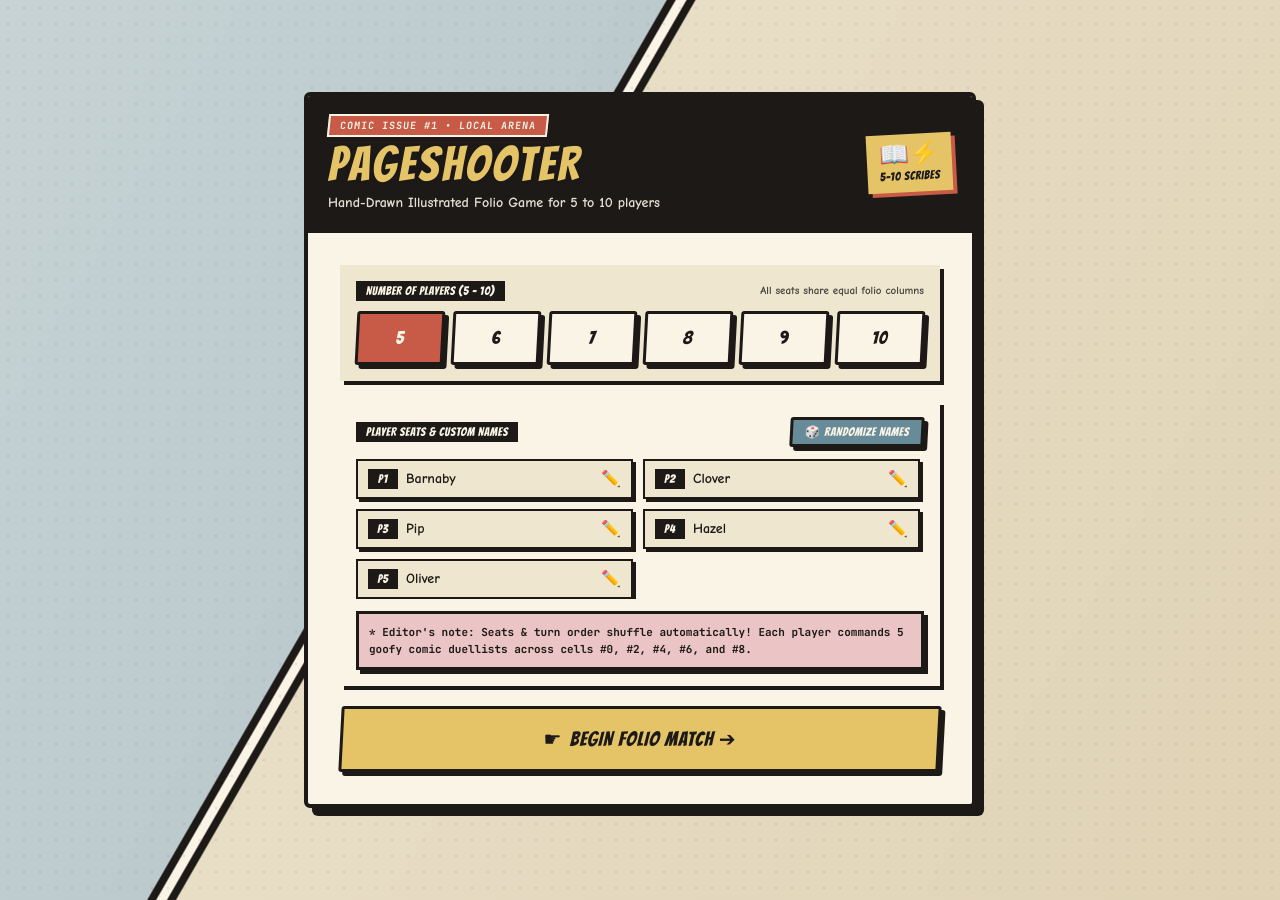
Scenario: React Components QA & Regression Tests › SetupScreen › renders default 5 players and allows switching to 10 players
Later steps or results of the test are not shown.
Expected: the 1st field with placeholder "Player 1" is shown, [406,469,593,489]
Expected: the 5th field with placeholder "Player 5" is shown, [406,569,593,589]
Note: Switch to 10 players
Click the button "10" at (880,338), box [835,311,925,365]
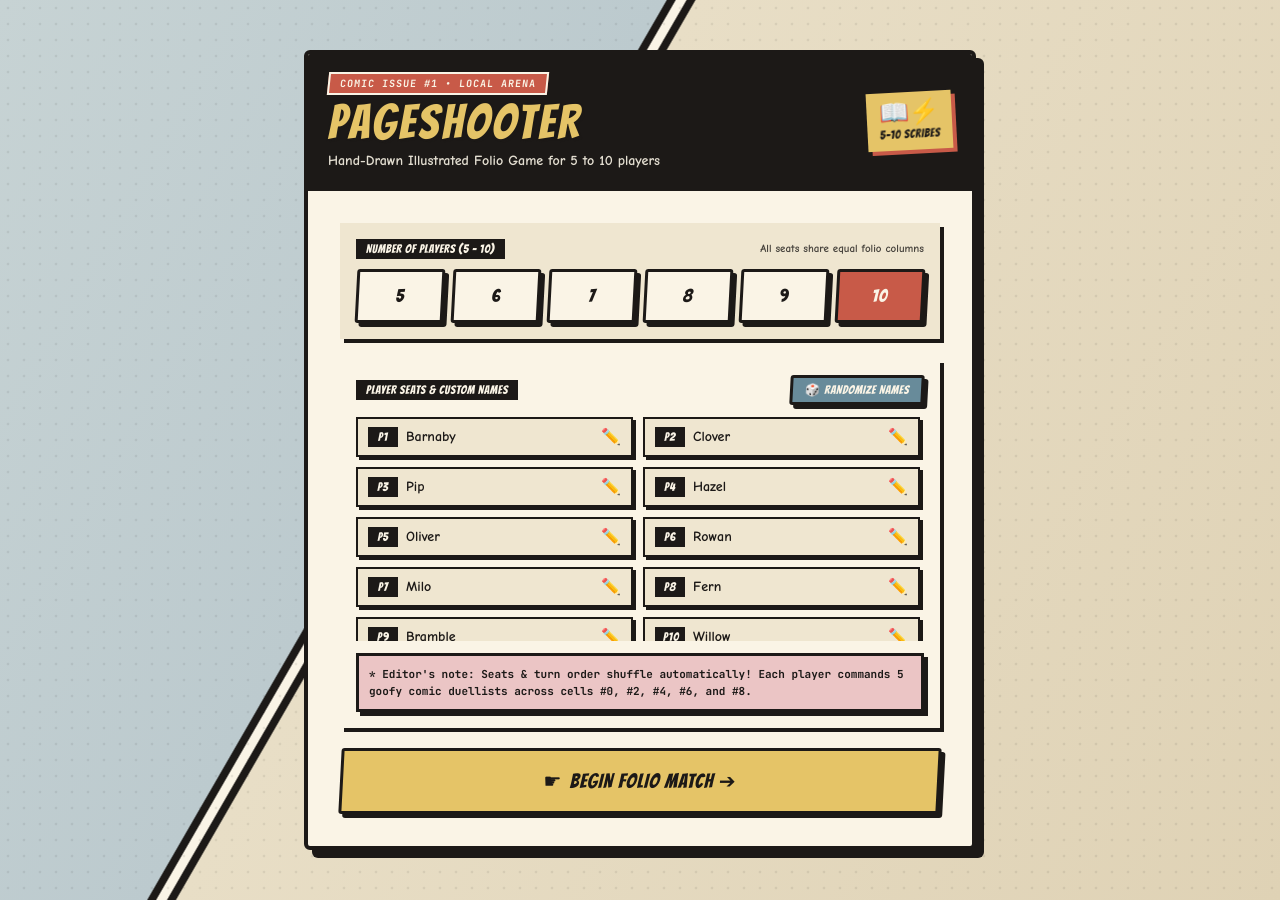
Expected: the 10th field with placeholder "Player 10" is shown, [693,627,880,641]
